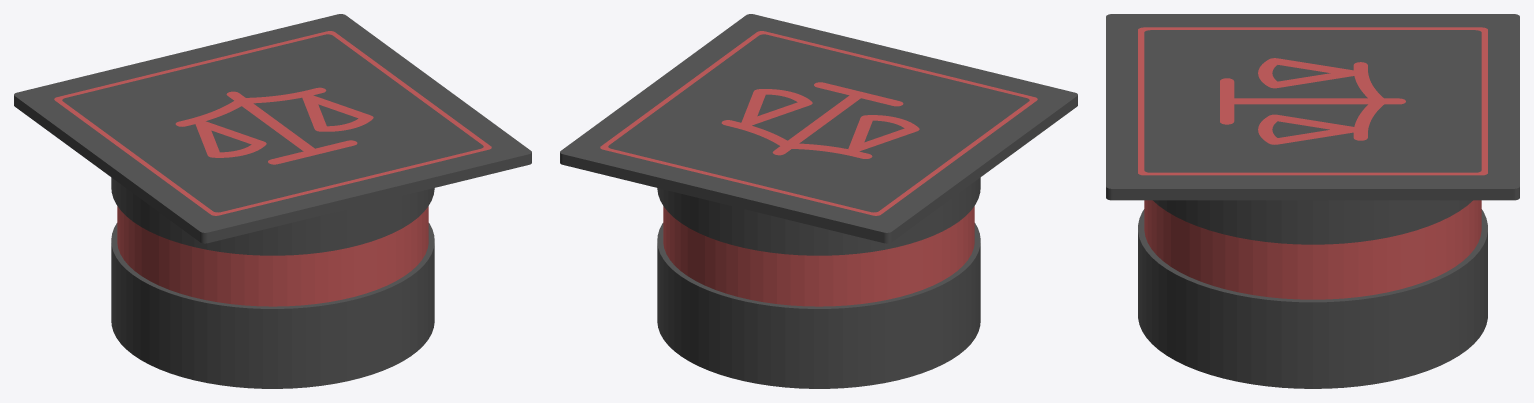
Rendered from bomboniera-giurisprudenza-facolta-montato.glb.
3 views of the same model, side by side, from view 1: azimuth 30°, elevation 25°; view 2: azimuth 150°, elevation 25°; view 3: azimuth 270°, elevation 25° (orthographic). The views are drawn at different scales.
Visible parts, largest first — view 1: struttura_coperchio, struttura_base, fascia, simbolo_intarsio, bordo; view 2: struttura_coperchio, struttura_base, fascia, simbolo_intarsio, bordo; view 3: struttura_coperchio, struttura_base, fascia, simbolo_intarsio, bordo.
Boxes of the visible parts, bbox=[...] form: struttura_coperchio: bbox=[14, 14, 531, 255]; struttura_base: bbox=[111, 223, 434, 388]; fascia: bbox=[117, 206, 428, 306]; simbolo_intarsio: bbox=[175, 87, 373, 164]; bordo: bbox=[54, 31, 491, 215]; struttura_coperchio: bbox=[560, 14, 1077, 255]; struttura_base: bbox=[657, 223, 980, 388]; fascia: bbox=[663, 206, 974, 306]; simbolo_intarsio: bbox=[721, 82, 919, 158]; bordo: bbox=[600, 31, 1037, 215]; struttura_coperchio: bbox=[1106, 14, 1519, 244]; struttura_base: bbox=[1138, 209, 1487, 388]; fascia: bbox=[1144, 200, 1481, 299]; simbolo_intarsio: bbox=[1220, 58, 1405, 144]; bordo: bbox=[1138, 27, 1487, 175].
Size of the model in its own units: 0.065 by 0.037 by 0.065.
